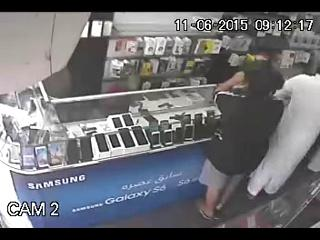Normal: (198, 37, 288, 223)
